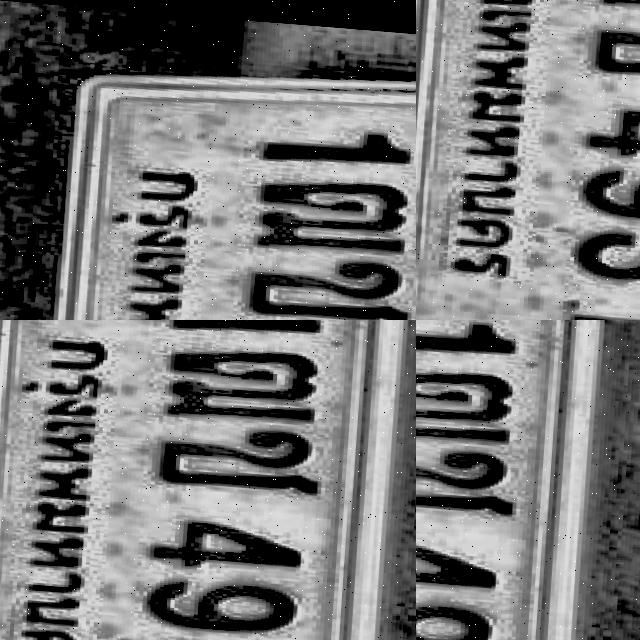license-plate: (0, 320, 416, 640), (416, 320, 631, 640), (259, 16, 416, 320), (416, 0, 640, 174)
